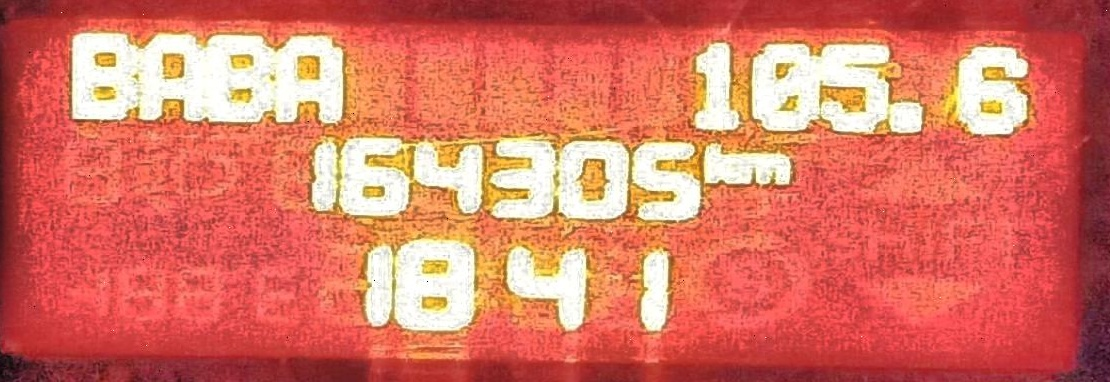-: (886, 93, 933, 140)
0: (747, 36, 816, 139), (558, 132, 623, 224)
1: (624, 239, 693, 340), (681, 36, 745, 139), (357, 237, 390, 341), (299, 137, 336, 224)
3: (493, 128, 559, 224)
4: (501, 236, 602, 335), (414, 134, 489, 211)
5: (818, 37, 891, 146), (627, 137, 701, 221)
6: (947, 34, 1045, 139), (339, 128, 408, 221)
8: (393, 231, 477, 337)
X: (275, 30, 347, 125), (203, 30, 271, 127), (68, 23, 133, 124), (138, 30, 201, 127), (745, 146, 795, 187), (702, 139, 745, 184)
